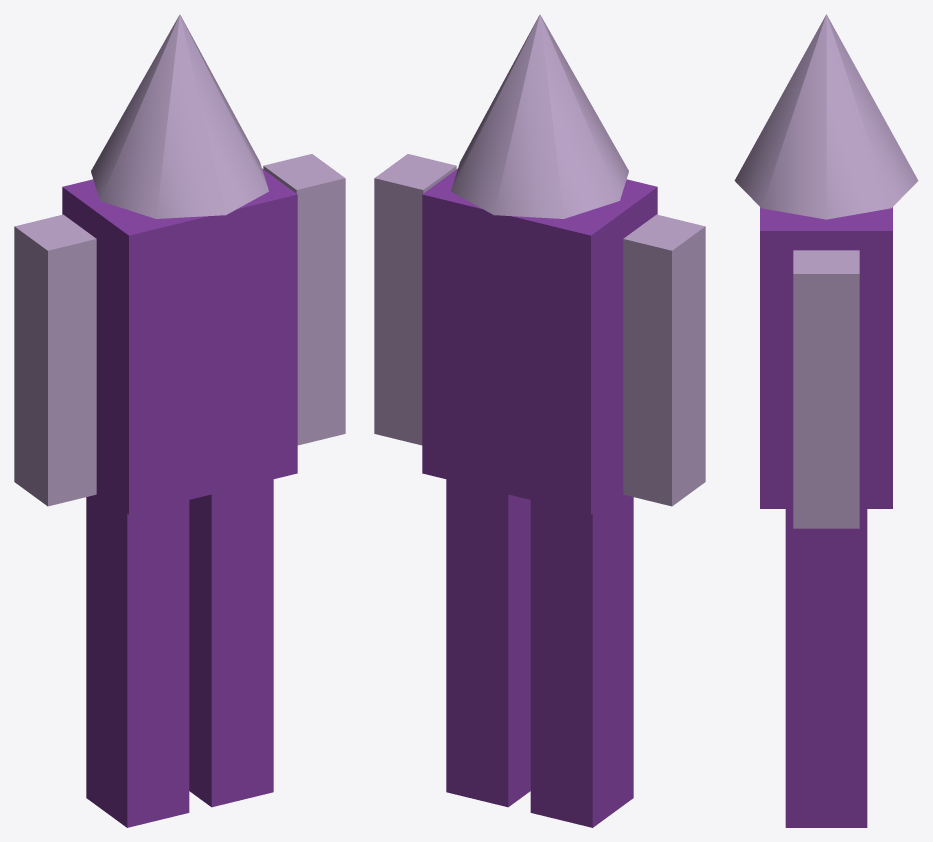
The model's file is mystic.glb.
The picture shows the model from 3 angles, left to right: view 1: azimuth 30°, elevation 25°; view 2: azimuth 150°, elevation 25°; view 3: azimuth 270°, elevation 25°; orthographic projection.
Bounding box in the file's own units: 0.67 × 1.68 × 0.36.
